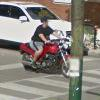Motorcycle: (14, 32, 91, 81)
